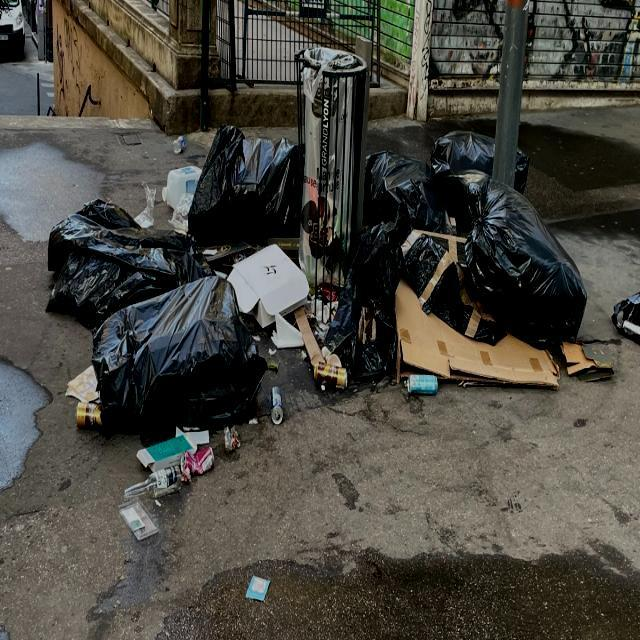high trash: (48, 126, 345, 541), (326, 131, 614, 388)
less trash: (245, 576, 270, 601)
